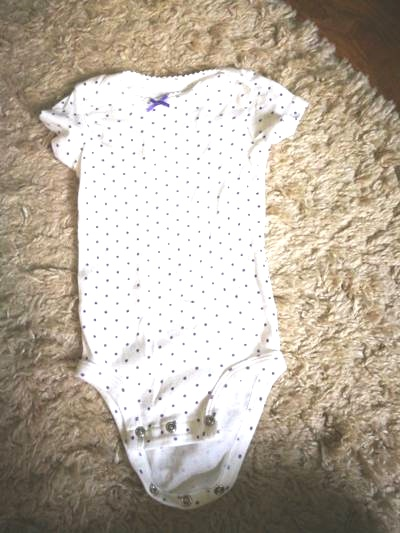Body: (30, 56, 317, 503)
